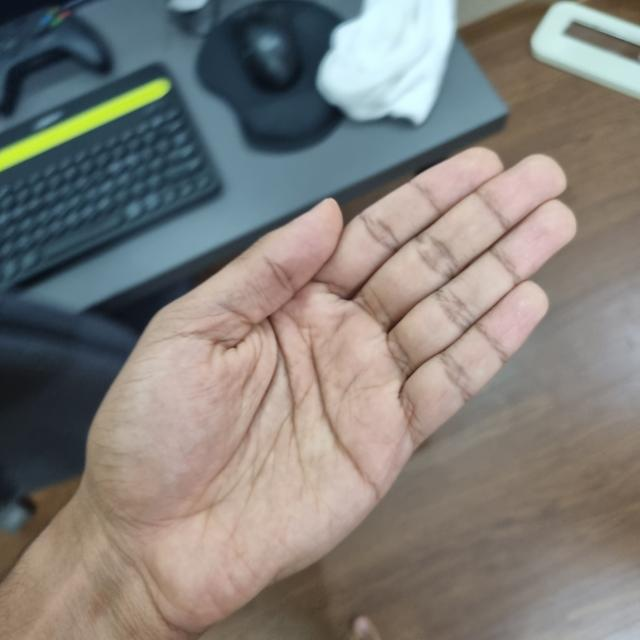Paper: (98, 154, 575, 608)
